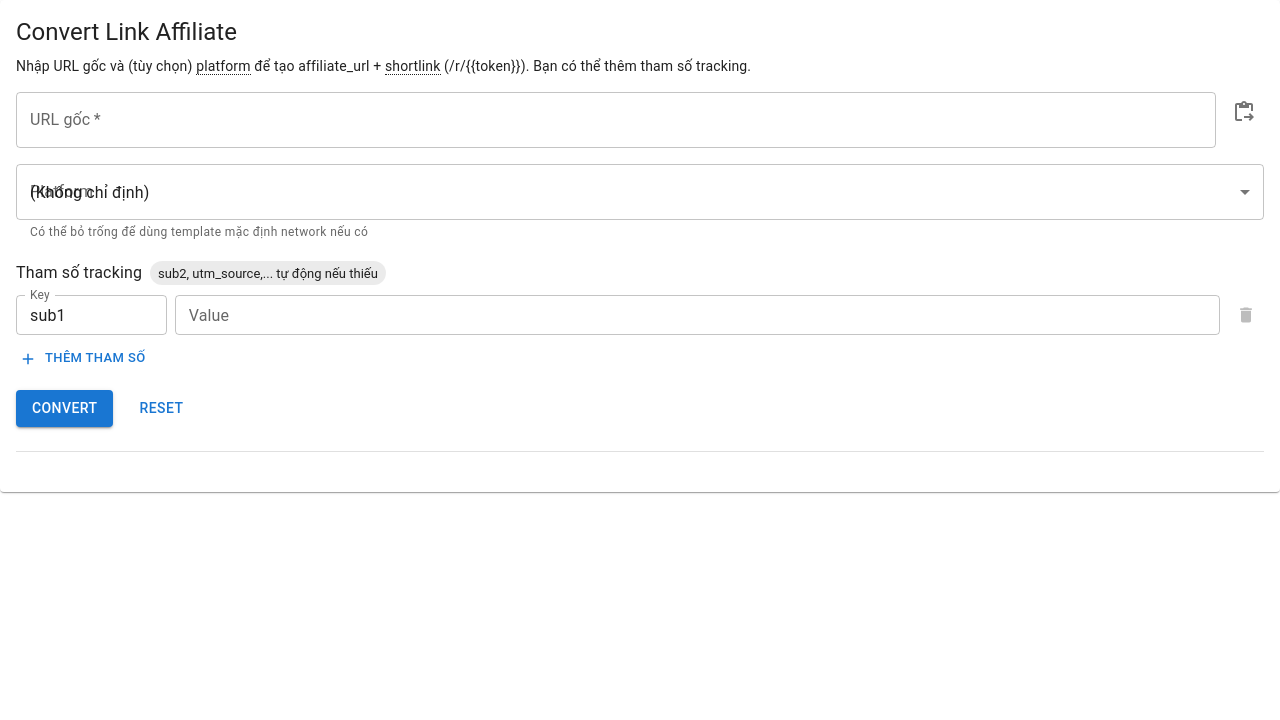
Scenario: ConvertTool › tự động nhận diện platform từ URL shopee
Step 1. Type "https://shopee.vn/some-product-123" into the field labelled "URL gốc *" → (616, 120), box [16, 92, 1216, 148]
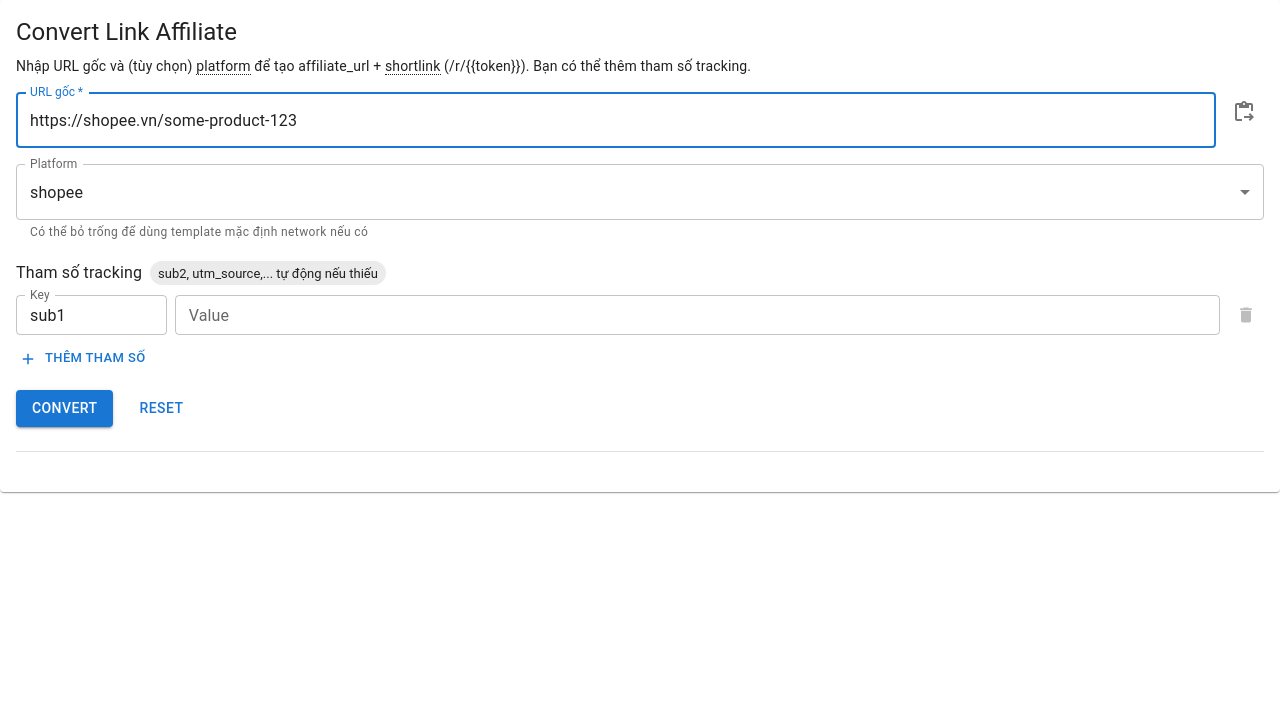
Check: the dropdown labelled "Platform" shows "shopee", box [16, 164, 1264, 220]
